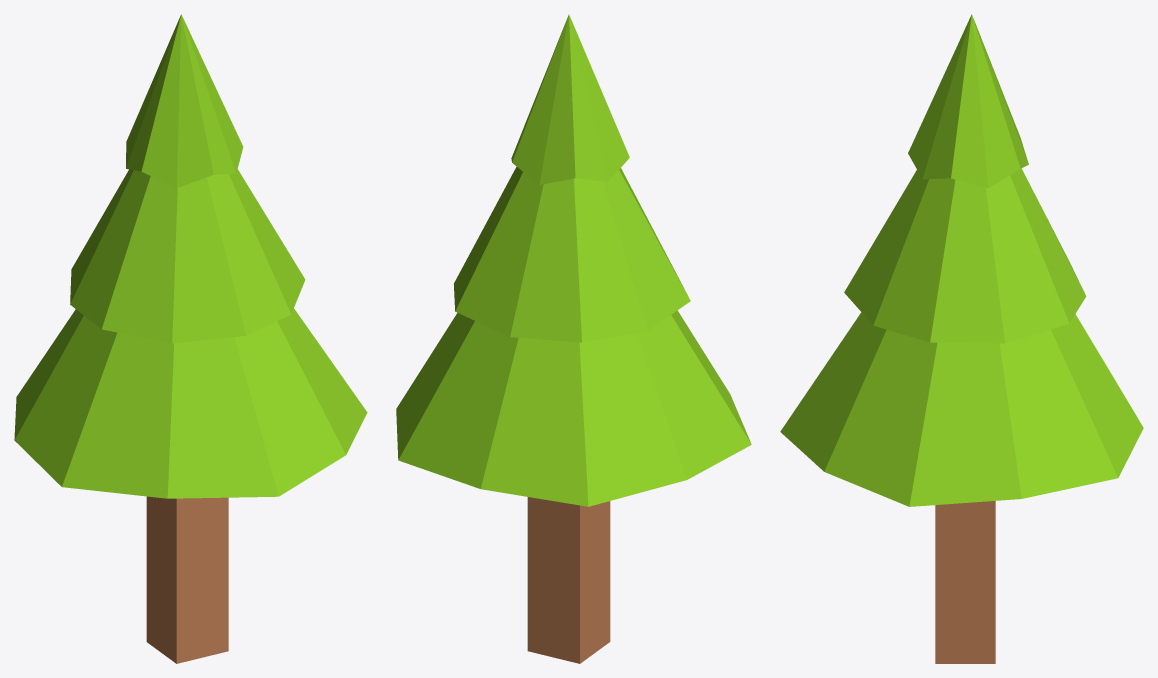
Rendered from ExportedBlenderFBXFile.fbx.
3 renders of one model, left to right at view 1: azimuth 30°, elevation 25°; view 2: azimuth 150°, elevation 25°; view 3: azimuth 270°, elevation 25°, orthographic.
Parts seen in each view (by area): view 1: Cylinder; view 2: Cylinder; view 3: Cylinder.
Part boxes in pixels (box(x1,y1,x2,y2)): Cylinder: box(14, 14, 367, 663); Cylinder: box(396, 14, 751, 663); Cylinder: box(780, 14, 1143, 663).
Size of the model in its own units: 3.88 by 7.66 by 3.97.
